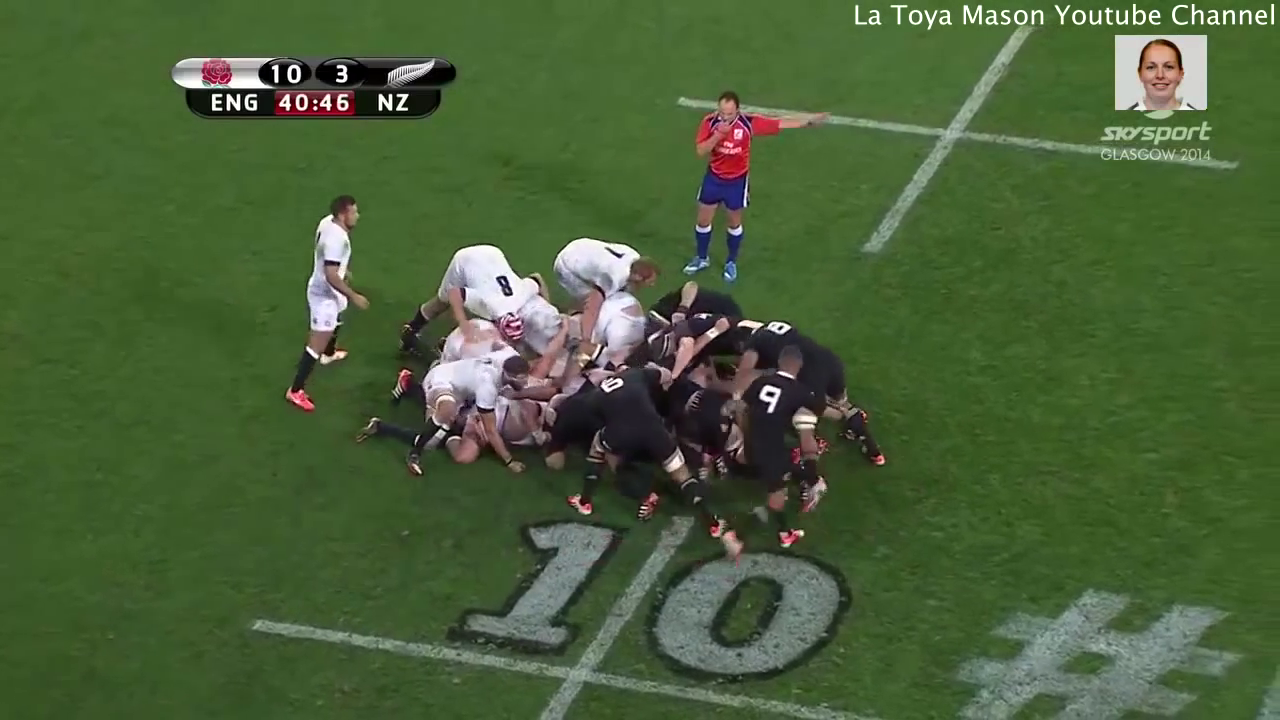10_metre: (667, 1, 1280, 263), (233, 502, 901, 720)
player: (677, 86, 840, 284), (563, 359, 703, 527), (277, 187, 378, 419), (726, 342, 817, 549), (398, 239, 547, 350), (537, 229, 653, 300)
scrum: (365, 244, 891, 489)
